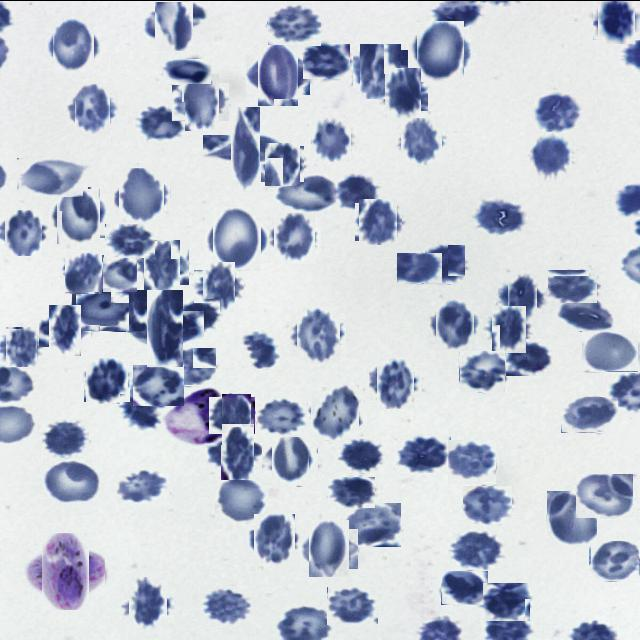difficult: (34, 540, 98, 602)
red blood cell: (217, 120, 275, 177), (136, 299, 194, 356), (209, 210, 266, 266), (413, 23, 468, 77), (544, 490, 598, 544), (252, 48, 304, 100), (309, 386, 361, 438), (71, 286, 130, 331), (42, 458, 102, 502), (341, 502, 401, 546), (18, 157, 84, 197), (575, 473, 633, 518), (214, 476, 269, 523), (274, 171, 338, 211), (53, 190, 104, 240), (117, 170, 167, 220), (293, 309, 343, 359), (49, 20, 98, 69), (581, 330, 638, 372), (305, 524, 354, 572), (472, 194, 529, 235), (199, 585, 253, 628), (267, 2, 321, 45), (356, 46, 404, 94), (177, 77, 224, 125), (149, 0, 199, 45), (251, 516, 298, 563), (272, 214, 318, 261), (395, 434, 451, 472), (160, 347, 216, 385), (449, 528, 502, 568), (528, 133, 574, 179), (268, 436, 314, 482), (125, 580, 171, 626), (372, 358, 418, 404), (214, 428, 260, 474), (448, 439, 496, 483), (116, 465, 170, 504), (133, 364, 184, 405), (84, 357, 130, 402), (561, 396, 618, 432), (532, 91, 582, 132), (590, 540, 640, 581), (256, 397, 307, 437), (556, 296, 614, 331), (432, 301, 477, 346), (400, 118, 444, 163), (136, 101, 185, 141), (327, 586, 378, 624), (309, 119, 353, 163), (140, 244, 184, 288), (459, 350, 505, 392), (42, 417, 89, 457), (482, 582, 530, 621), (463, 485, 512, 523), (71, 87, 114, 130), (382, 70, 424, 114), (332, 170, 378, 210), (358, 200, 400, 242), (198, 264, 240, 306), (44, 309, 86, 351), (2, 210, 44, 252), (595, 0, 637, 42), (212, 394, 254, 435), (506, 338, 552, 375), (336, 438, 386, 472), (105, 223, 155, 257), (547, 269, 597, 303), (489, 308, 530, 349), (424, 244, 466, 284), (303, 43, 350, 78), (441, 570, 488, 604), (64, 253, 104, 292), (502, 278, 542, 316), (262, 144, 302, 182), (328, 474, 375, 506), (128, 290, 166, 329), (120, 393, 160, 430), (242, 330, 280, 368), (178, 298, 220, 332), (397, 252, 442, 283), (3, 328, 39, 364), (162, 58, 211, 84), (102, 257, 137, 292)
trophozoite: (166, 386, 222, 444)
